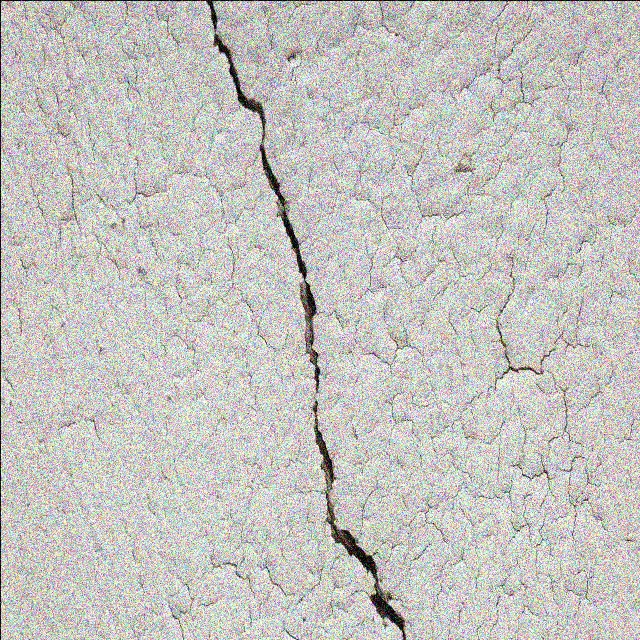SurfaceCrack: (163, 0, 454, 640)
